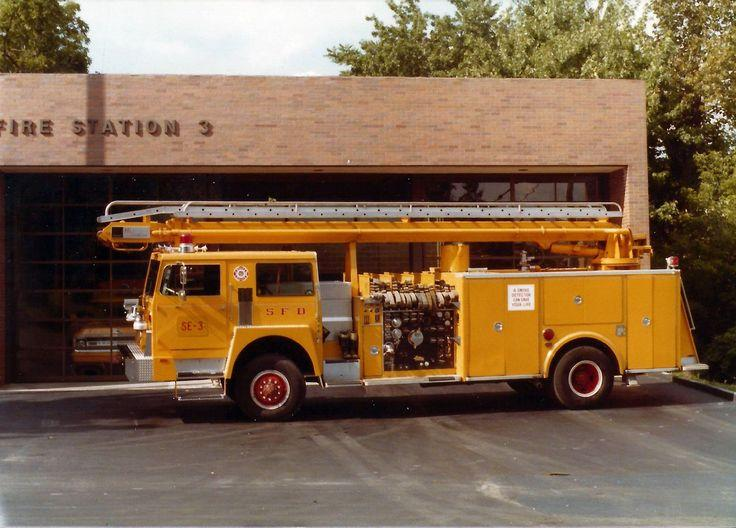firetruck_off: (95, 198, 712, 421)
